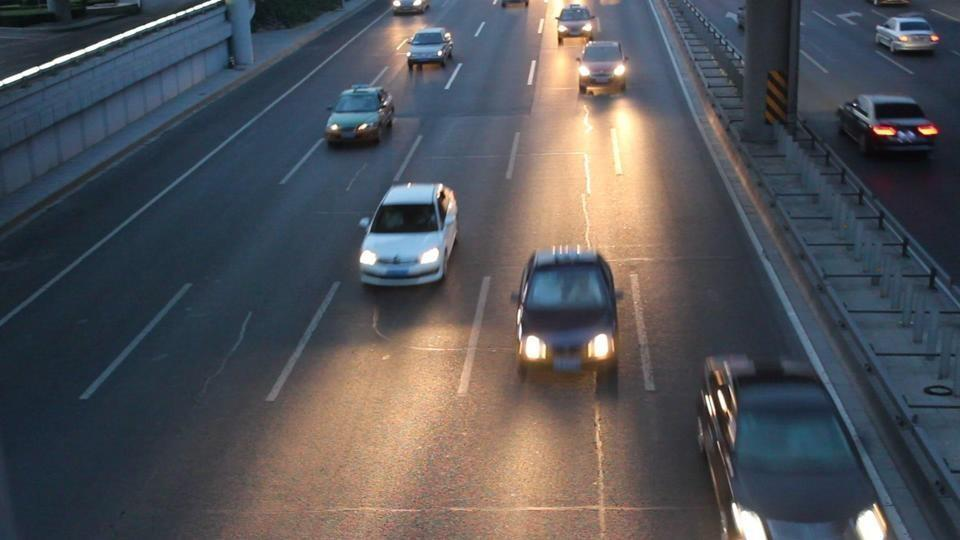car: (695, 353, 891, 537), (512, 246, 621, 379), (357, 182, 460, 288), (835, 93, 941, 156), (323, 85, 396, 147), (575, 39, 631, 97), (874, 15, 942, 55), (407, 26, 454, 67), (555, 3, 597, 42), (391, 0, 431, 15)
